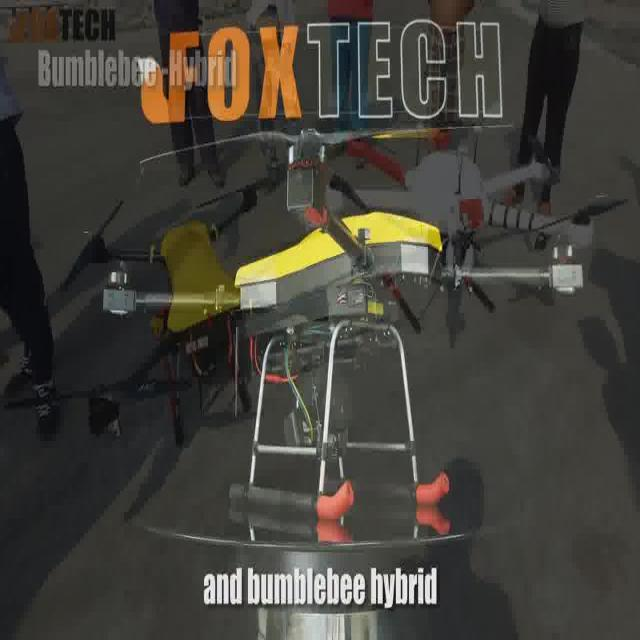drones: (79, 120, 633, 568)
